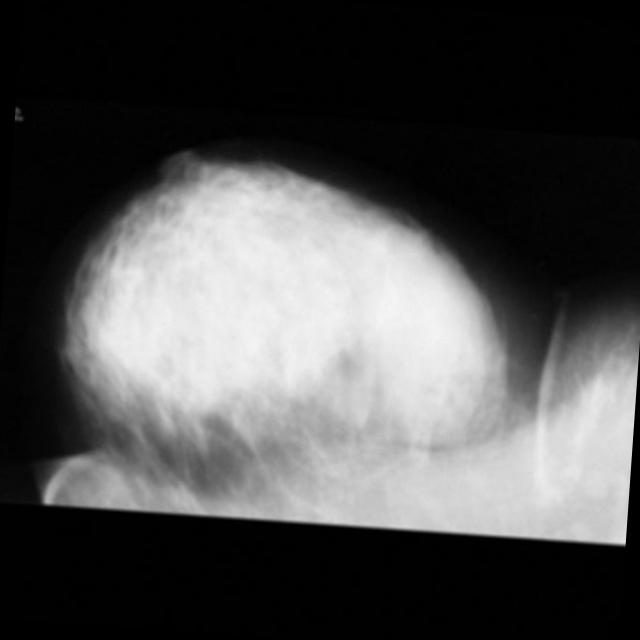CALC: (374, 228, 404, 258)
